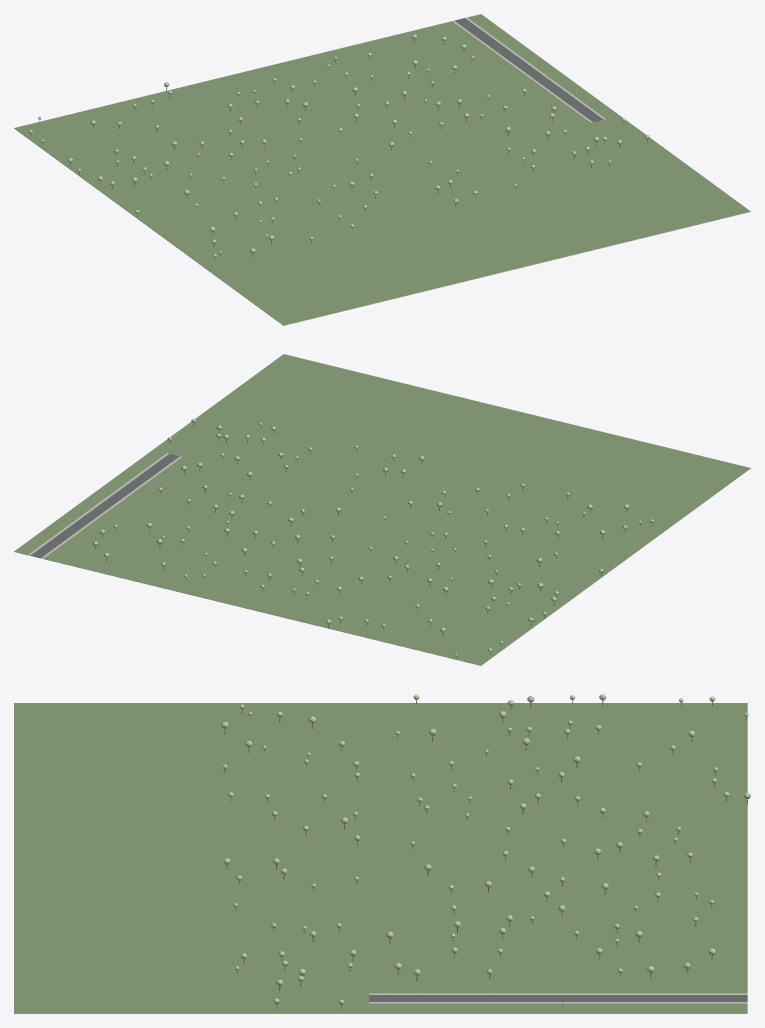
The model's file is chunk_5_7_high.glb.
3 views of the same model, one above another, from view 1: azimuth 30°, elevation 25°; view 2: azimuth 150°, elevation 25°; view 3: azimuth 270°, elevation 25° (orthographic). The views are drawn at different scales.
Parts seen in each view (by area): view 1: city_forest_floor, city_foliage, city_world_asphalt, city_world_sidewalk, city_grass, city_foliage_dark, city_bark; view 2: city_forest_floor, city_foliage, city_world_asphalt, city_foliage_dark, city_world_sidewalk, city_grass, city_bark; view 3: city_forest_floor, city_foliage, city_world_asphalt, city_foliage_dark, city_world_sidewalk, city_bark, city_curb, city_grass.
Boxes of the visible parts, box(x1,y1,x2,y2) form: city_forest_floor: box(14, 14, 750, 325); city_foliage: box(29, 34, 649, 257); city_world_asphalt: box(454, 18, 603, 122); city_world_sidewalk: box(451, 17, 605, 122); city_grass: box(14, 128, 750, 325); city_foliage_dark: box(29, 35, 649, 256); city_bark: box(30, 39, 647, 260); city_forest_floor: box(14, 354, 750, 665); city_foliage: box(93, 419, 653, 656); city_world_asphalt: box(30, 453, 179, 557); city_foliage_dark: box(92, 420, 654, 656); city_world_sidewalk: box(28, 453, 182, 558); city_grass: box(14, 468, 750, 665); city_bark: box(95, 423, 652, 658); city_forest_floor: box(14, 703, 747, 1013); city_foliage: box(221, 694, 750, 1004); city_world_asphalt: box(369, 995, 747, 1001); city_foliage_dark: box(223, 696, 749, 1004); city_world_sidewalk: box(369, 993, 747, 1003); city_bark: box(224, 700, 747, 1008); city_curb: box(369, 993, 747, 1003); city_grass: box(14, 1013, 747, 1013).
Size of the model in its own units: 513 by 9.77 by 514.
